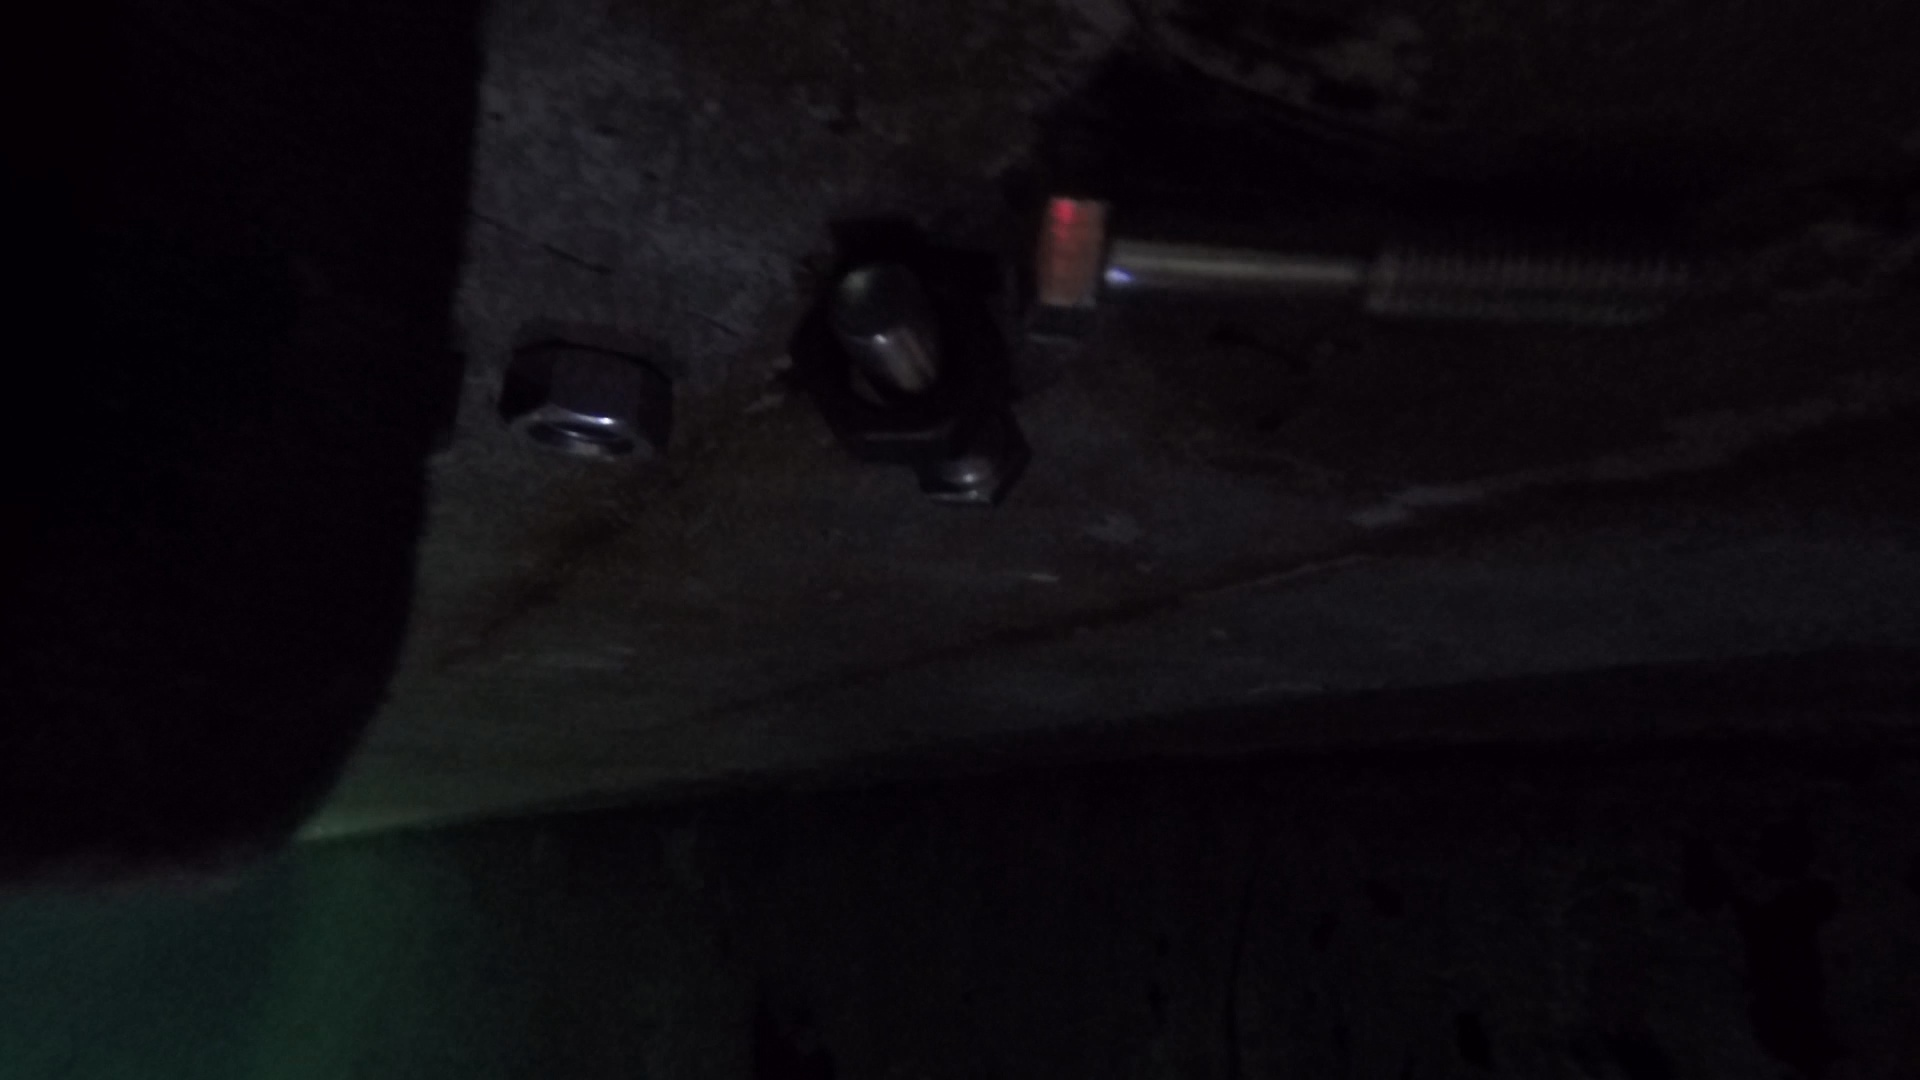bolt: (1010, 156, 1700, 353), (827, 260, 1036, 512)
nut: (783, 228, 1013, 468), (493, 342, 675, 483)
pipe: (1, 1, 477, 874)
